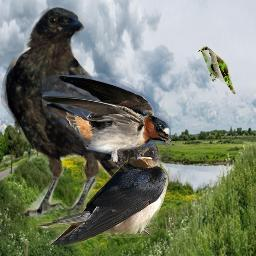Crow: (1, 5, 167, 217)
Cuckoo: (197, 46, 237, 94)
Swallow: (35, 138, 169, 245), (42, 75, 171, 172)
